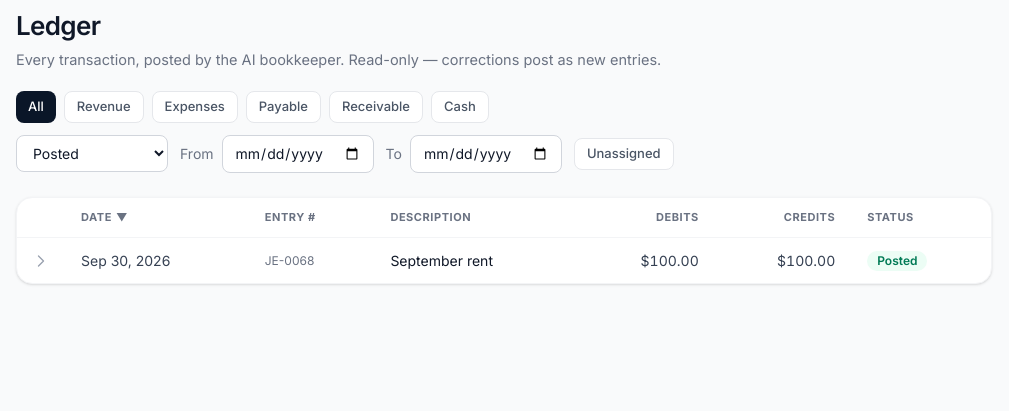
Test: owner ledger — Assign on the live entry only (D-S85-13) › offers Assign on an unattributed live entry
The image size is (1009, 411).
What coordinates should you click on to do the following:
click the text "JE-0068"
I would click on:
 (312, 261)
Its box is [249,238,374,284].
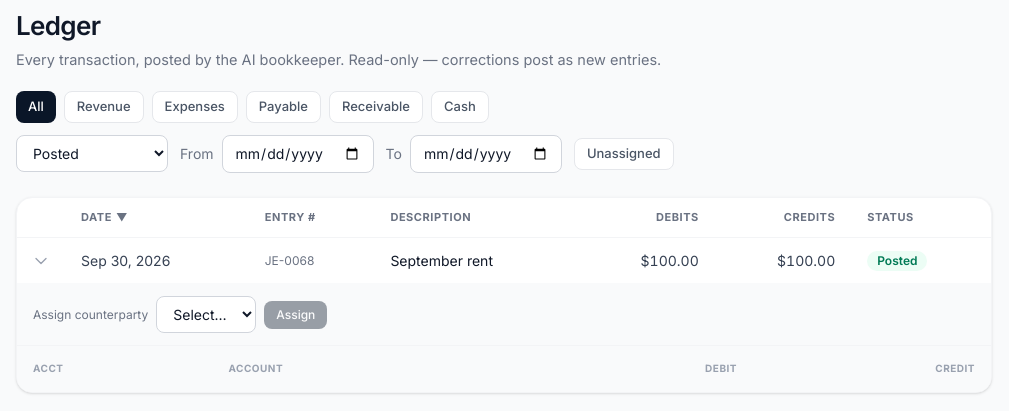
Expected: the button "Assign" is shown, [264,301,327,329]
